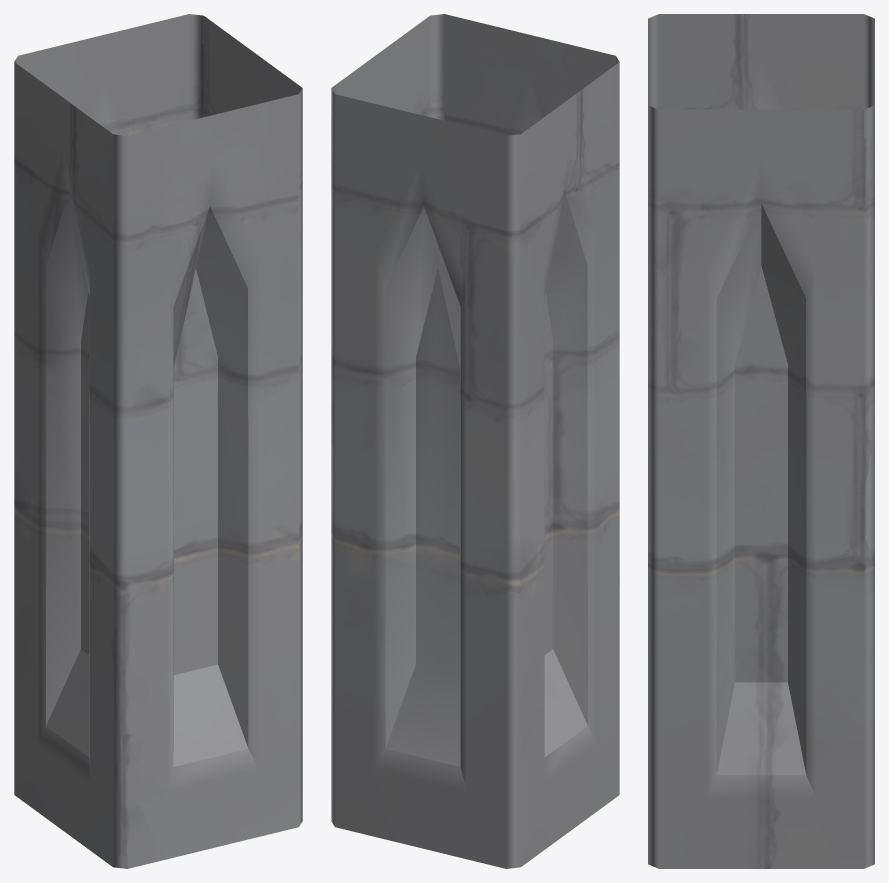
Rendered from SM_Column_1mVar1.fbx.
3 renders of one model, left to right at view 1: azimuth 30°, elevation 25°; view 2: azimuth 150°, elevation 25°; view 3: azimuth 270°, elevation 25°, orthographic. The views are drawn at different scales.
Parts seen in each view (by area): view 1: SM_Column_1mVar1; view 2: SM_Column_1mVar1; view 3: SM_Column_1mVar1.
Boxes of the visible parts, <box> form: SM_Column_1mVar1: <box>14,14,302,868</box>; SM_Column_1mVar1: <box>331,14,619,868</box>; SM_Column_1mVar1: <box>648,14,874,868</box>.
Size of the model in its own units: 0.2707 by 1 by 0.2707.
